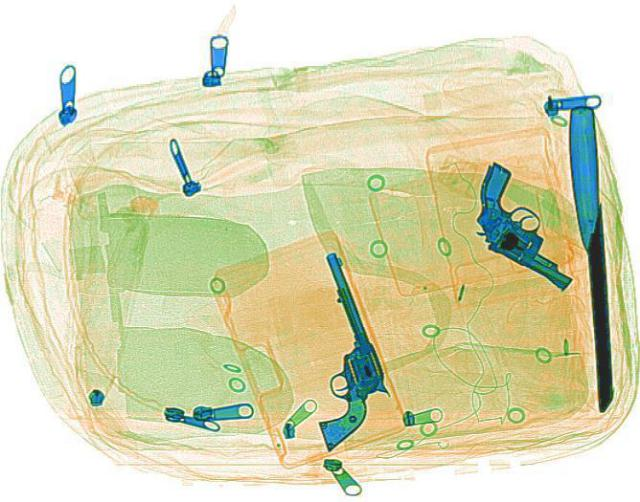Gun: (251, 250, 409, 449), (430, 160, 620, 288)
Knife: (566, 104, 610, 410)
